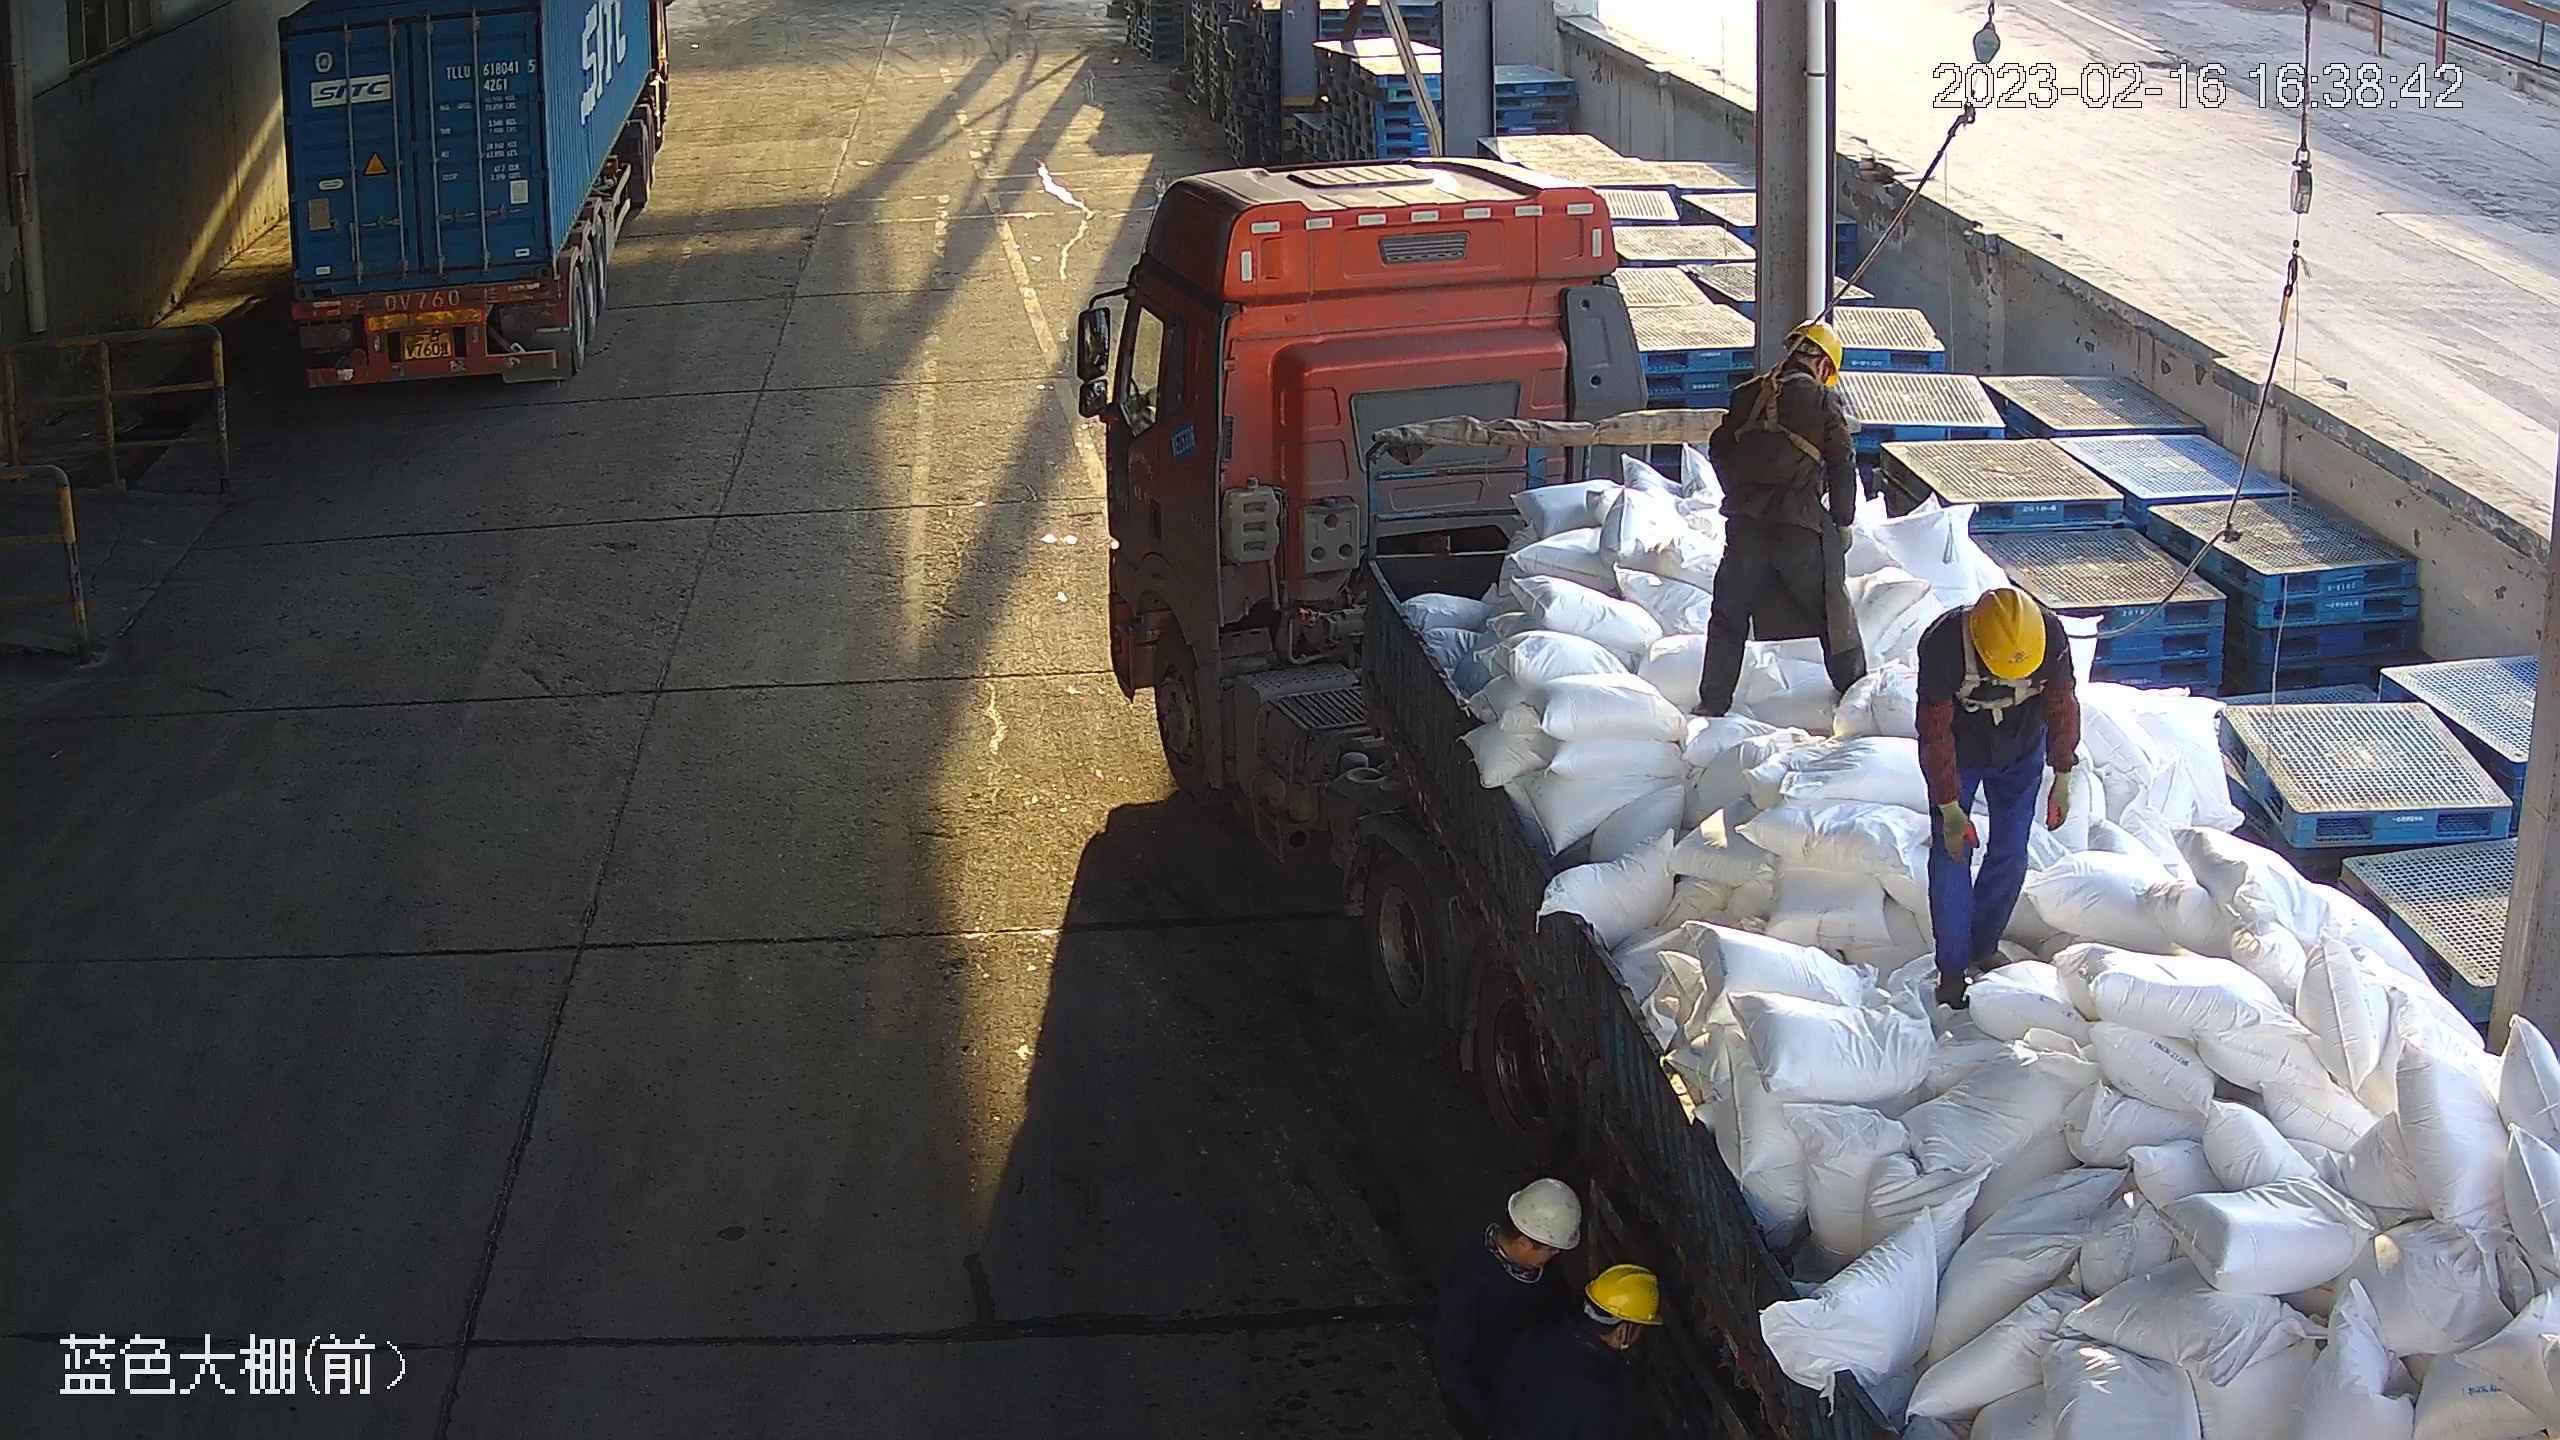belt: (1742, 371, 1839, 462), (1967, 673, 2048, 734)
head: (1565, 1265, 1685, 1420), (1467, 1169, 1586, 1323), (1916, 588, 2063, 708), (1739, 318, 1849, 411)
helmet: (1969, 588, 2046, 681), (1583, 1265, 1667, 1330), (1509, 1174, 1579, 1241), (1786, 315, 1844, 379)
people: (1906, 586, 2097, 1008), (1702, 313, 1881, 727)
truck: (1063, 139, 2560, 1440), (277, 1, 681, 401)
